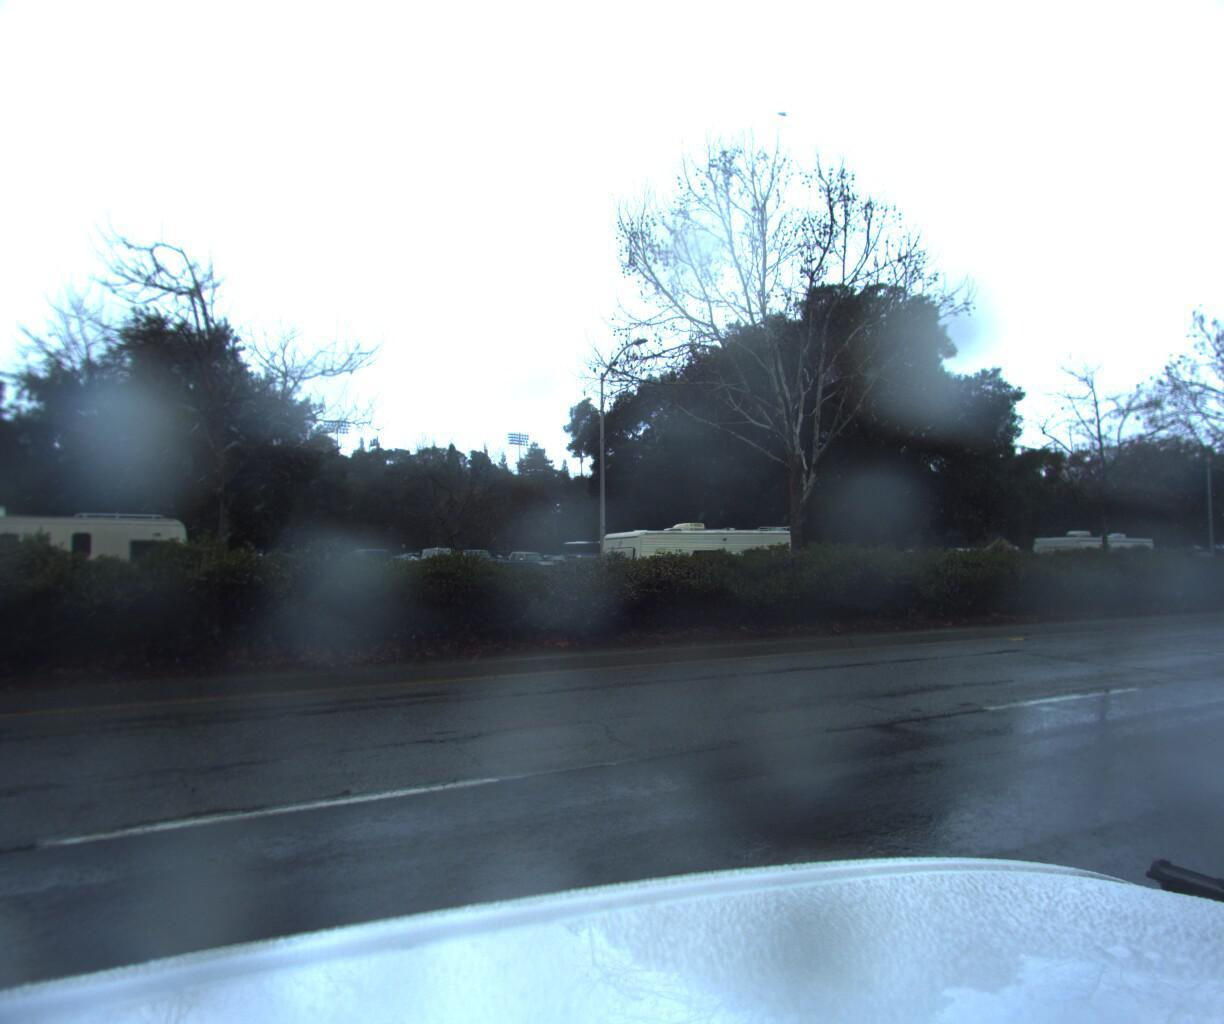other_vehicle: (0, 496, 200, 651), (589, 515, 817, 614), (1018, 520, 1171, 589)
